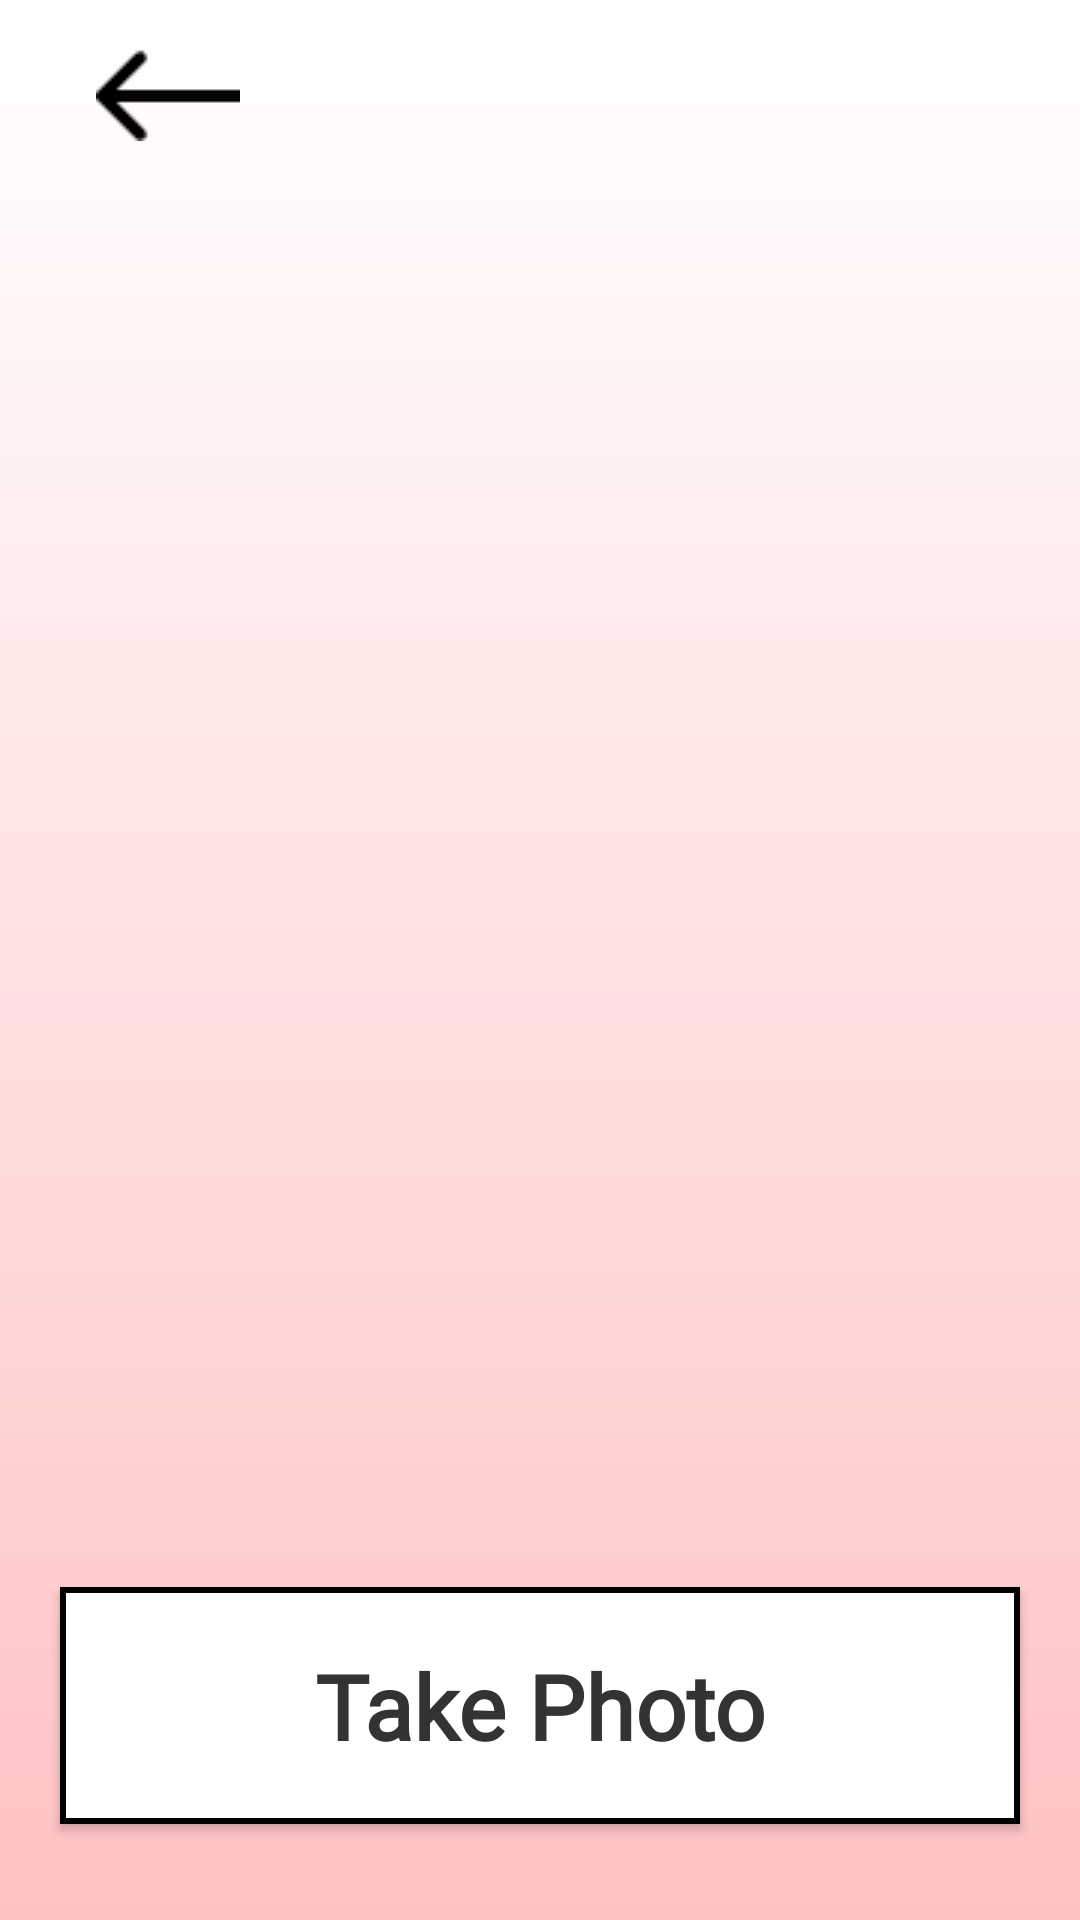

Point at icon controls on the screen. Image size 1080*1920, points as (x,y).
Back: (168,95)
